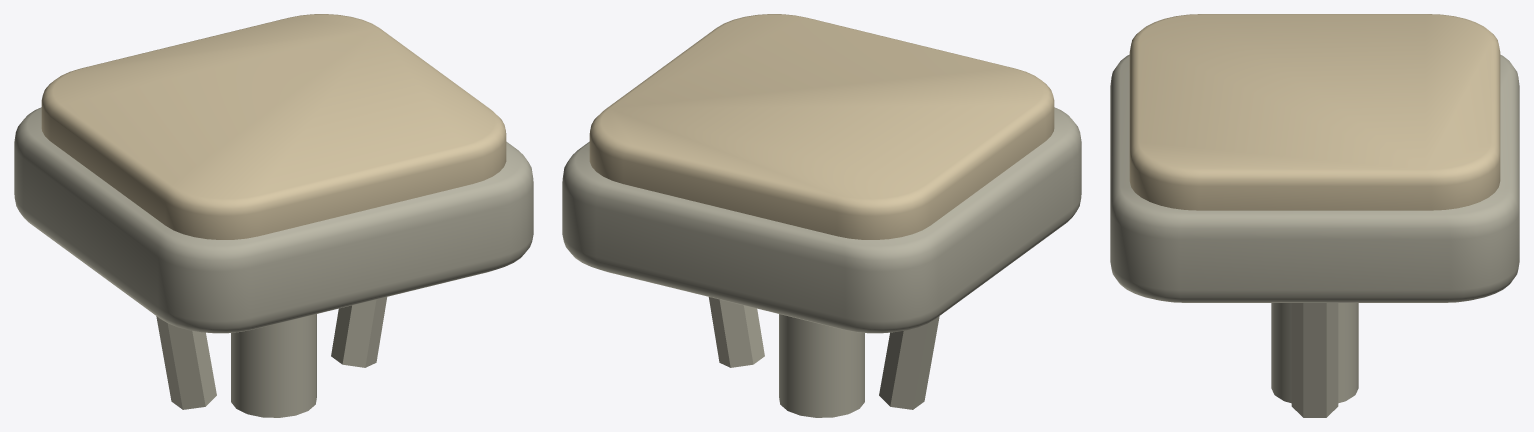
The model's file is Executive.glb.
3 renders of one model, left to right at view 1: azimuth 30°, elevation 25°; view 2: azimuth 150°, elevation 25°; view 3: azimuth 270°, elevation 25°, orthographic.
Visible parts, largest first — view 1: Inset keytop, Key bezel, Keystem, Key support (×2); view 2: Inset keytop, Key bezel, Keystem, Key support (×2); view 3: Inset keytop, Key bezel, Key support, Keystem.
Part boxes in pixels (<box>): Inset keytop: <box>41,14,506,239</box>; Key bezel: <box>14,107,533,333</box>; Keystem: <box>231,314,316,417</box>; Key support (×2): <box>156,297,387,409</box>; Inset keytop: <box>589,14,1054,239</box>; Key bezel: <box>562,107,1081,333</box>; Keystem: <box>779,314,864,417</box>; Key support (×2): <box>708,297,939,409</box>; Inset keytop: <box>1129,14,1500,210</box>; Key bezel: <box>1110,54,1519,302</box>; Key support: <box>1291,303,1338,417</box>; Keystem: <box>1271,303,1358,403</box>.
Size of the model in its own units: 0.46 by 0.351 by 0.44.
